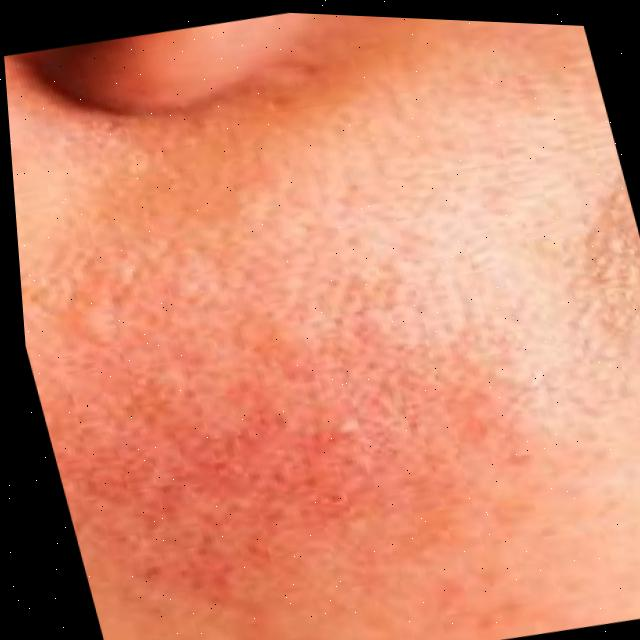Rosacea: (61, 373, 550, 630)
